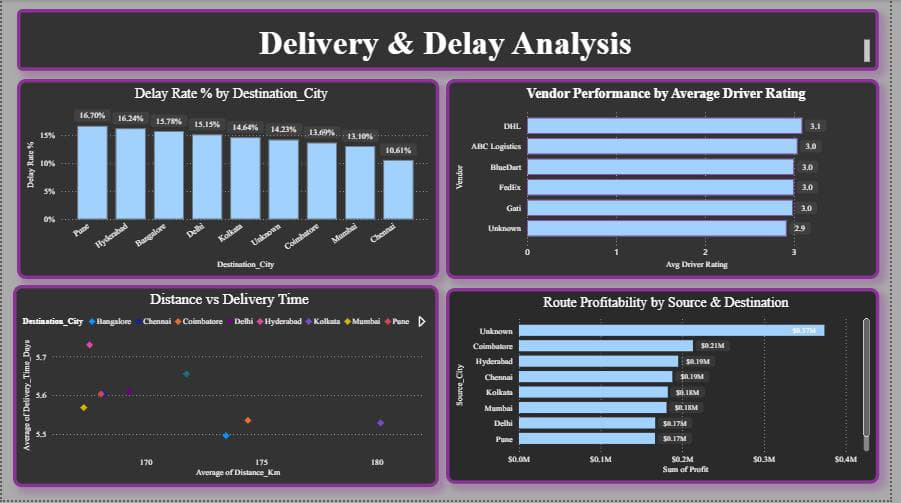

What the dashboard file says about the page in this screenshot:
{"tool":"powerbi","page":{"name":"Dashboard 2 – Delivery & Delay Analysis","canvas":[1280,720],"ordinal":1},"visuals":[{"type":"clusteredColumnChart","fields":{"Category":["Logistics_Cleaned_Dataset.Destination_City"],"Y":["Delivery_Status =  Delayed.Delay Rate %"]},"box":[21.6,113.8,607.7,288],"z":0},{"type":"scatterChart","title":"Distance vs Delivery Time","fields":{"Series":["Logistics_Cleaned_Dataset.Destination_City"],"X":["Avg(Logistics_Cleaned_Dataset.Distance_Km)"],"Y":["Avg(Logistics_Cleaned_Dataset.Delivery_Time_Days)"]},"box":[15.8,410.4,613.4,290.9],"z":1000},{"type":"clusteredBarChart","title":"Vendor Performance by Average Driver Rating","fields":{"Category":["Logistics_Cleaned_Dataset.Vendor"],"Y":["Logistics_Cleaned_Dataset.Avg Driver Rating"]},"box":[639.4,113.8,623.5,288],"z":2000},{"type":"clusteredBarChart","title":"Route Profitability by Source & Destination","fields":{"Category":["Logistics_Cleaned_Dataset.Source_City"],"Y":["Sum(Logistics_Cleaned_Dataset.Profit)"]},"box":[639.4,414.7,623.5,282.2],"z":3000},{"type":"textbox","box":[21.6,13,1241.3,89.3],"z":4000}]}

Visuals, with their boxes in screenshot pixels (x1, y1, x2, y2), scaled from the page's 1280x720 canvas onto the 901x503 screenshot:
clusteredColumnChart - Logistics_Cleaned_Dataset.Destination_City x Delivery_Status =  Delayed.Delay Rate %: [x1=15, y1=80, x2=443, y2=281]
"Distance vs Delivery Time" scatterChart: [x1=11, y1=287, x2=443, y2=490]
"Vendor Performance by Average Driver Rating" clusteredBarChart: [x1=450, y1=80, x2=889, y2=281]
"Route Profitability by Source & Destination" clusteredBarChart: [x1=450, y1=290, x2=889, y2=487]
textbox: [x1=15, y1=9, x2=889, y2=71]
